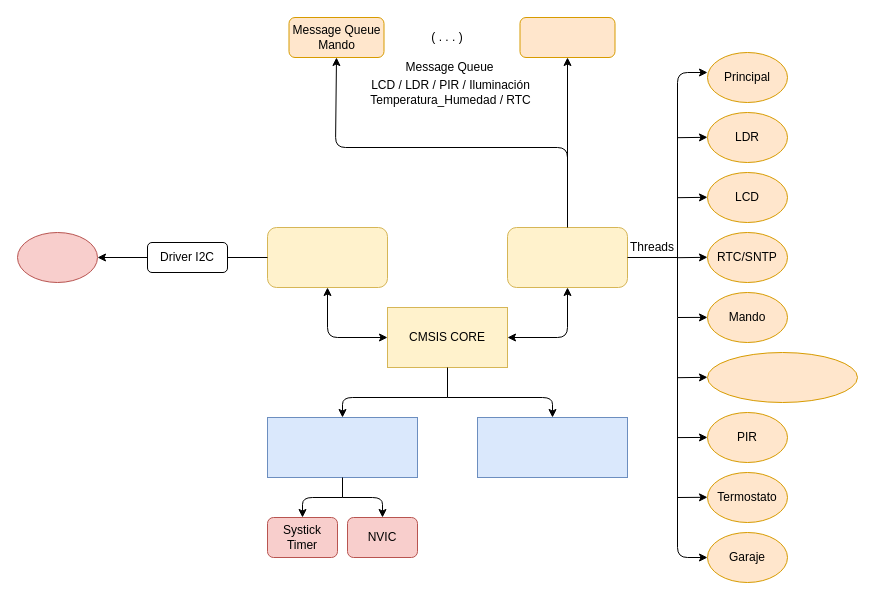
Image size: 875x600. Some labels were removed from this diagram. Here are the shapes that lost their labels. From the top down, the centre of each, then its label:
At point (567, 37): "Message Queue Termostato".
At point (57, 257): "I2C".
At point (327, 257): "CMSIS DRIVER".
At point (567, 257): "CMSIS RTOS v2".
At point (782, 377): "Temperatura_Humedad".
At point (342, 447): "Core Processor (CPU)".
At point (552, 447): "Core Peripherals".
